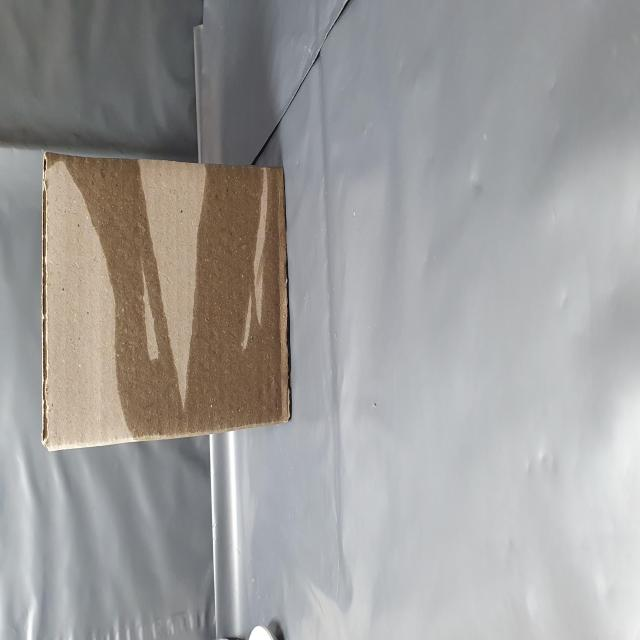wet: (115, 78, 278, 521)
